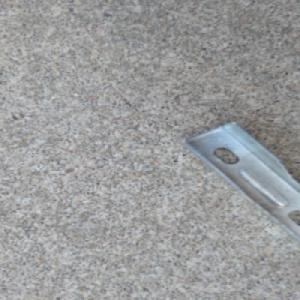ClampPart: (175, 118, 300, 248)
